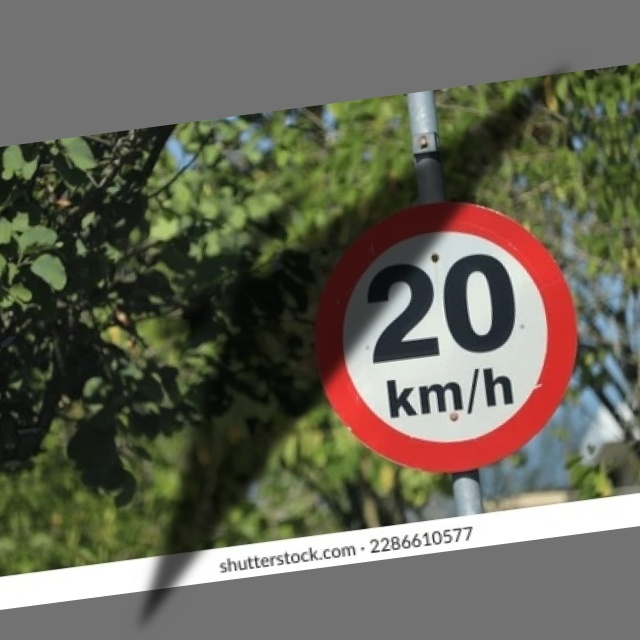Speed_Limit_20: (305, 190, 596, 488)
